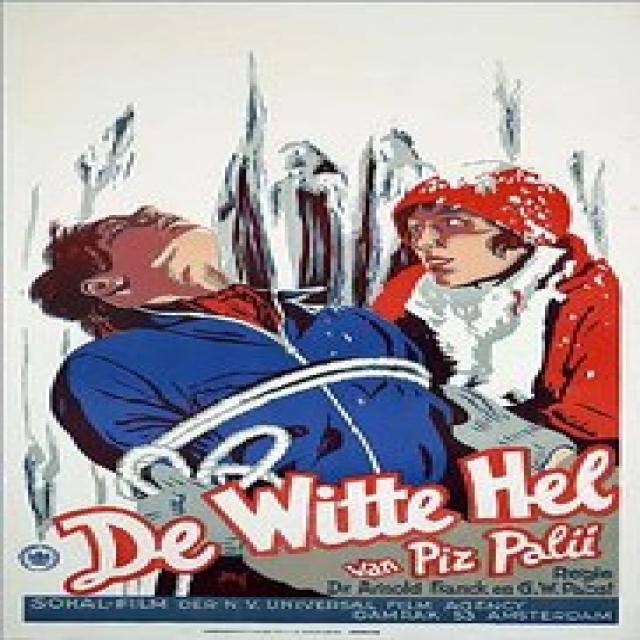movie-judul: (43, 423, 631, 619)
picture: (8, 40, 628, 622)
